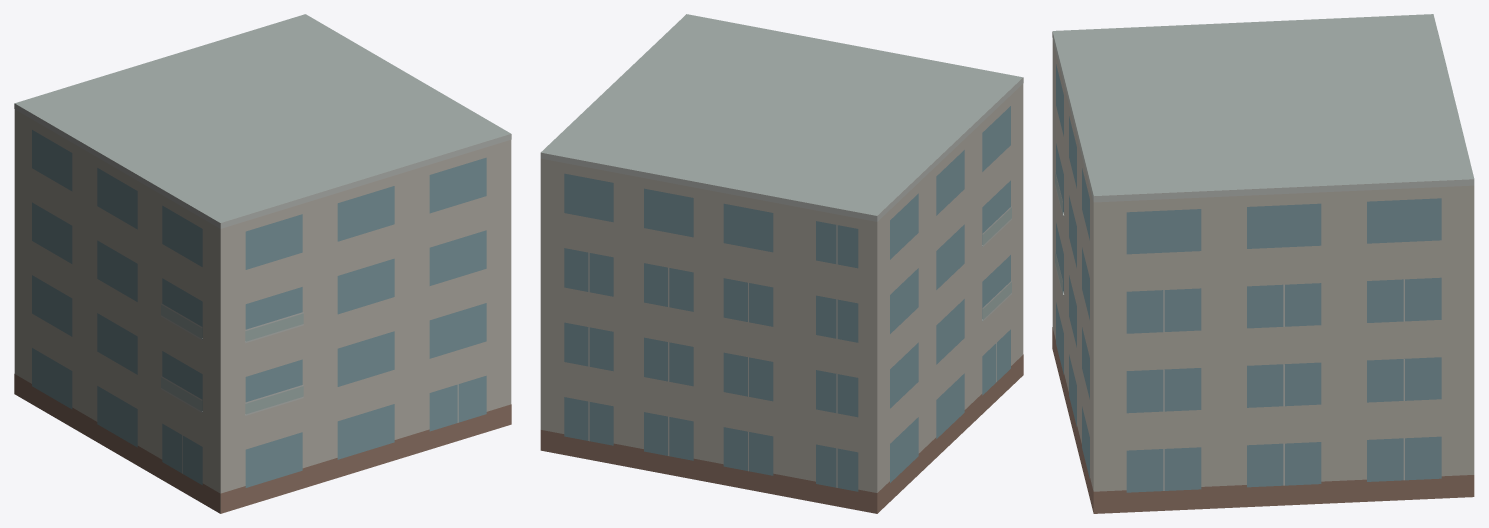
File: residential-685f5386-48d6-4ba4-b035-6e80018c5eac.glb
3 views of the same model, side by side, from view 1: azimuth 30°, elevation 25°; view 2: azimuth 150°, elevation 25°; view 3: azimuth 270°, elevation 25° (orthographic). The views are drawn at different scales.
Parts seen in each view (by area): view 1: residential-685f5386-48d6-4ba4-b035-6e80018c5eac.tmp; view 2: residential-685f5386-48d6-4ba4-b035-6e80018c5eac.tmp; view 3: residential-685f5386-48d6-4ba4-b035-6e80018c5eac.tmp.
Boxes of the visible parts, left/top/right/bottom form: residential-685f5386-48d6-4ba4-b035-6e80018c5eac.tmp: left=14, top=14, right=511, bottom=513; residential-685f5386-48d6-4ba4-b035-6e80018c5eac.tmp: left=540, top=14, right=1023, bottom=513; residential-685f5386-48d6-4ba4-b035-6e80018c5eac.tmp: left=1052, top=14, right=1474, bottom=513.
Bounding box in the file's own units: 15.01 × 12.2 × 14.69.
